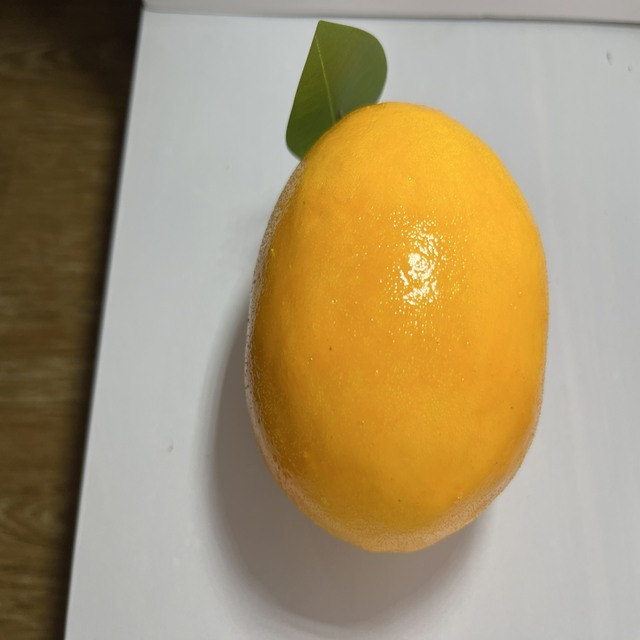Cam vang: (239, 102, 557, 554)
